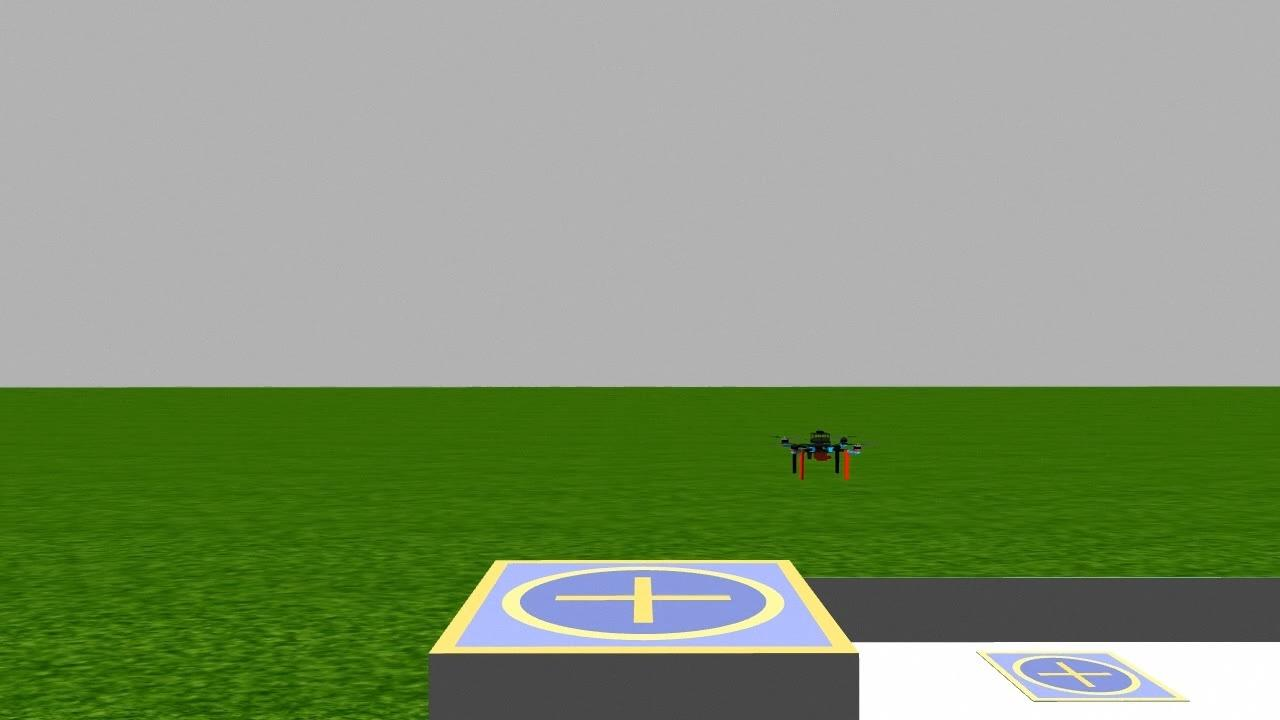UAV: (758, 420, 881, 491)
